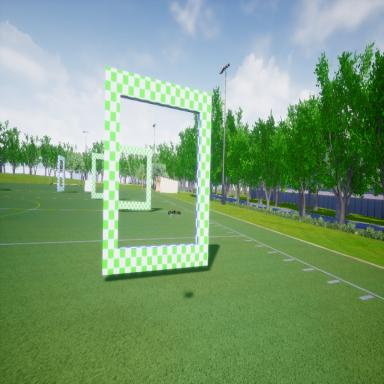gate: (100, 59, 213, 282), (112, 140, 152, 210), (54, 150, 68, 200)
